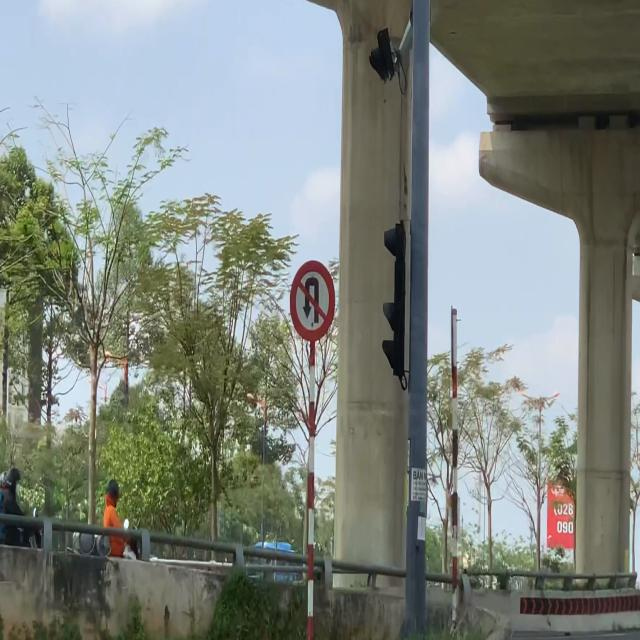Cam quay dau xe: (289, 257, 336, 343)
